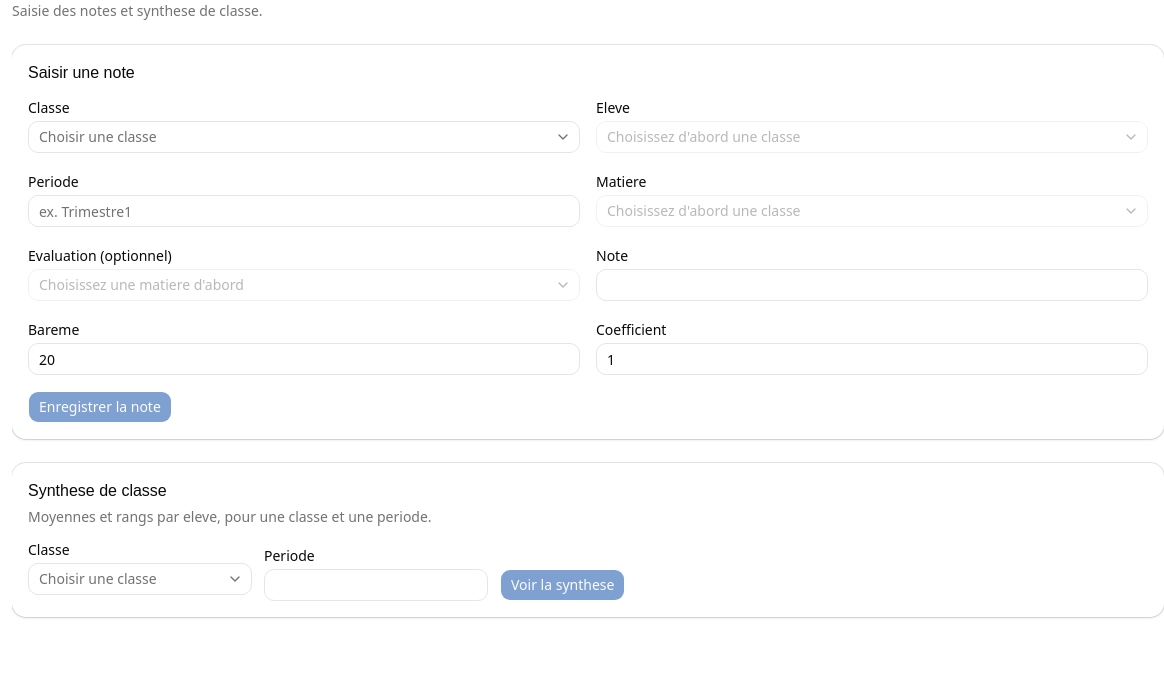
Test: GradesPage › affiche la synthese de classe apres recherche
The width and height of the screenshot is (1164, 689).
Click the dropdown with id "summaryClassId".
click(140, 579)  # box [28,563,252,595]
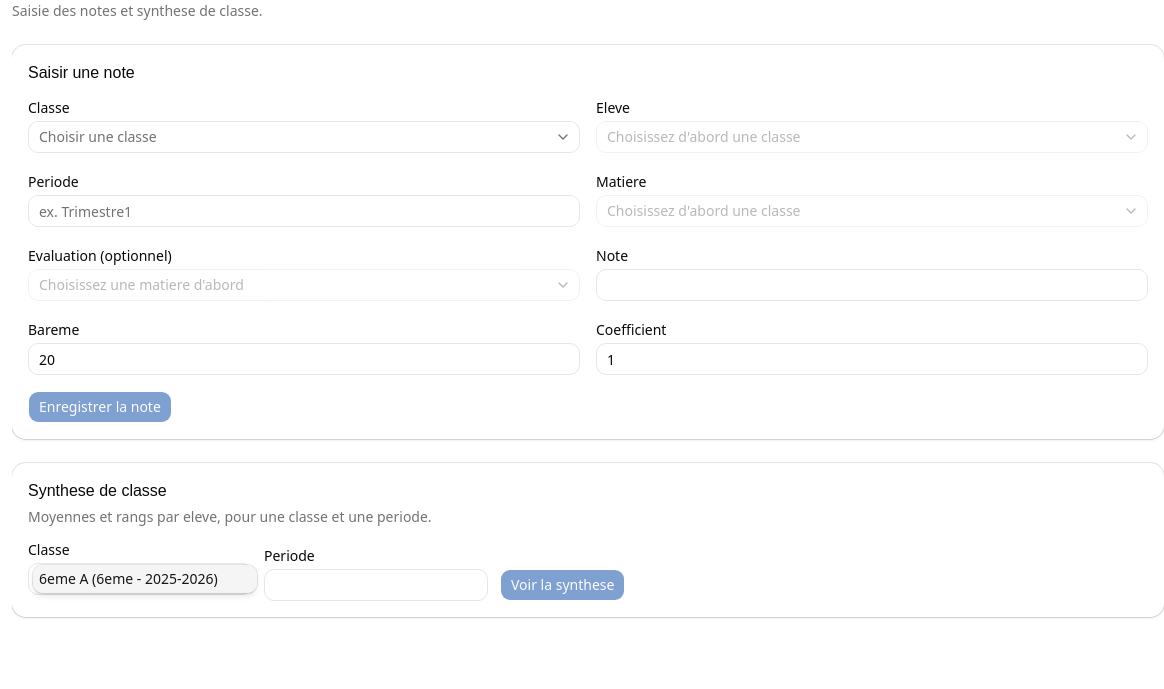
Click the option "6eme A (6eme - 2025-2026)".
click(145, 579)  # box [33,565,257,593]
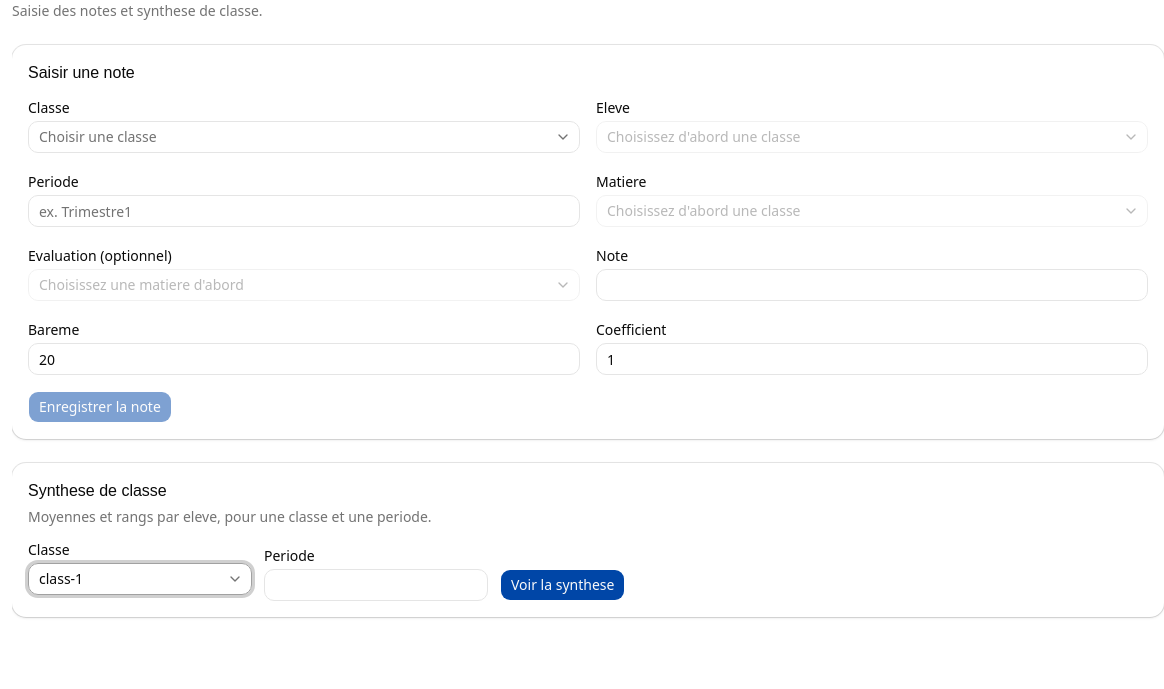
Type "Trimestre1" into the 2nd field labelled "Periode".
click(376, 585); type("Trimestre1")  # box [264,569,488,601]
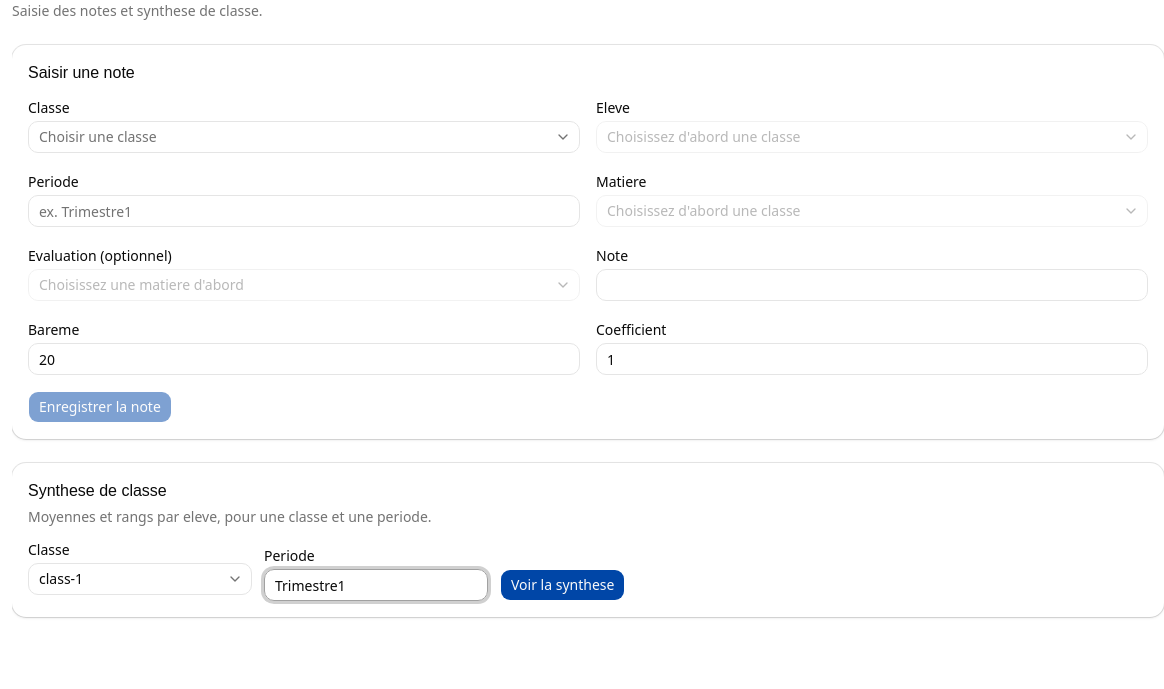
Click the button "Voir la synthese".
click(563, 585)  # box [500,569,625,601]
(page scrolled)
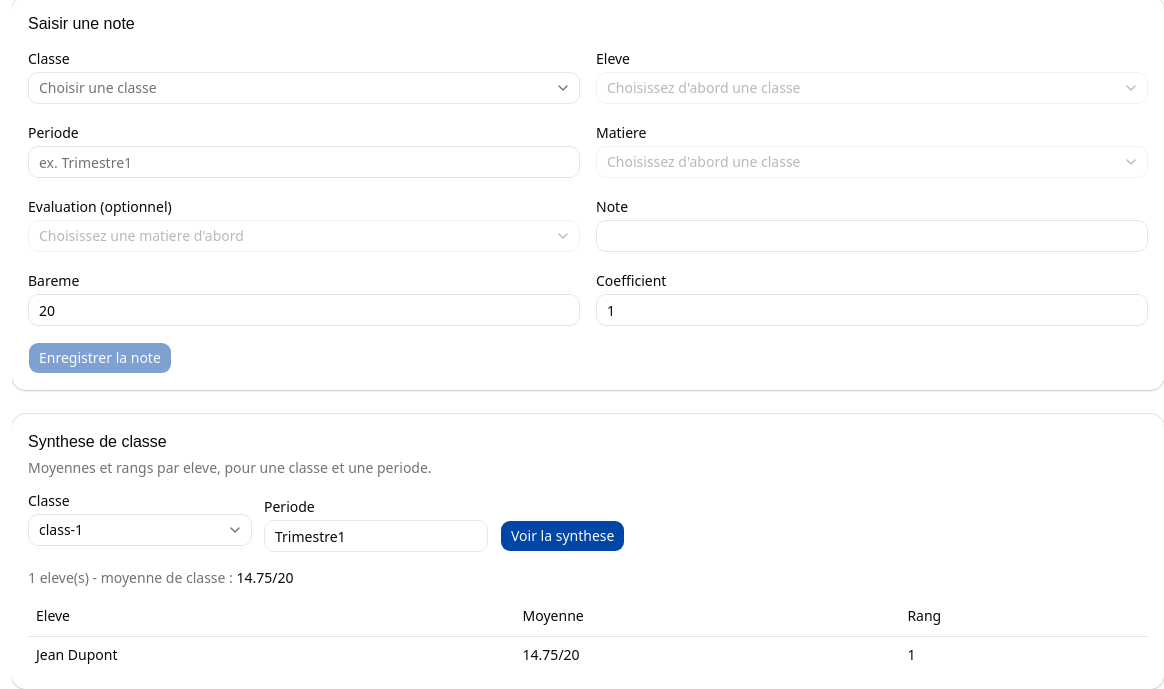
Now the text "Jean Dupont" is shown, box [28,636,515,672]
Now the text "14.75/20" is shown 2 times, box [236,568,294,587]; [515,636,899,672]
